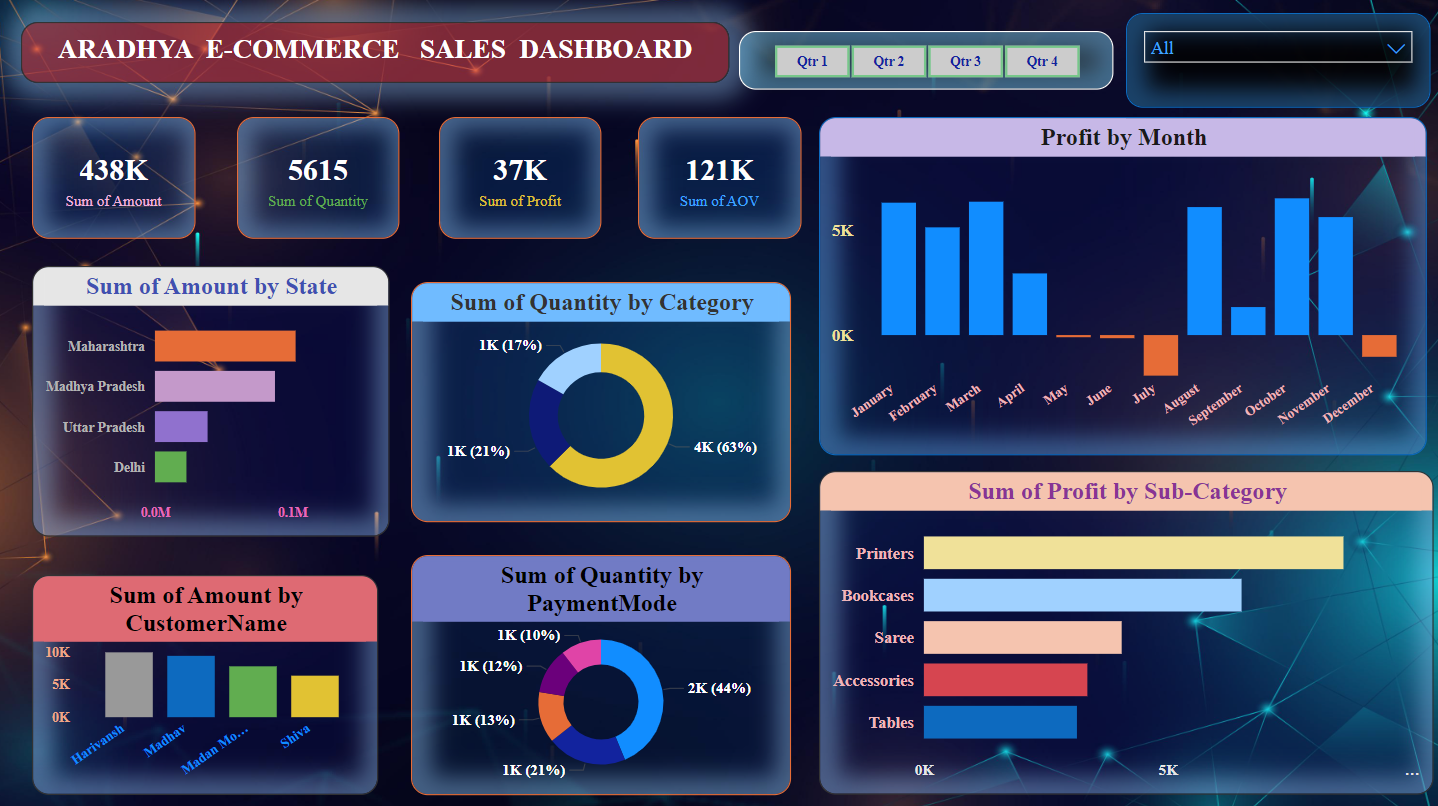

The dashboard page shown, as its layout file describes it:
{"tool":"powerbi","page":{"name":"Page 1","canvas":[1280,720],"ordinal":0},"visuals":[{"type":"textbox","box":[21.3,23.1,627.8,54.1],"z":0},{"type":"columnChart","title":"Profit by Month","fields":{"Category":["Orders.Order Date.Variation.Date Hierarchy.Month"],"Y":["Details.Profit"]},"box":[728.9,107.3,539.1,299.7],"z":1000},{"type":"barChart","fields":{"Category":["Details.Sub-Category"],"Y":["Details.Profit"]},"box":[728.9,421.2,545.3,287.3],"z":2000},{"type":"donutChart","fields":{"Category":["Details.Category"],"Y":["Details.Quantity"]},"box":[367.1,253.6,336.9,212.8],"z":3000},{"type":"donutChart","fields":{"Y":["Details.Quantity"],"Category":["Details.PaymentMode"]},"box":[367.1,495.7,336.9,212.8],"z":4000},{"type":"card","fields":{"Values":["Details.Amount"]},"box":[31,107.3,144.5,108.2],"z":5000},{"type":"card","fields":{"Values":["Details.Quantity"]},"box":[212.8,107.3,143.6,108.2],"z":6000},{"type":"card","fields":{"Values":["Details.Profit"]},"box":[391.9,107.3,143.6,108.2],"z":7000},{"type":"card","fields":{"Values":["Details.AOV"]},"box":[568.4,107.3,144.5,108.2],"z":8000},{"type":"barChart","fields":{"Category":["Orders.State"],"Y":["Details.Amount"]},"box":[31,239.4,316.6,240.3],"z":9000},{"type":"columnChart","fields":{"Category":["Orders.CustomerName"],"Y":["Details.Amount"]},"box":[31,513.4,306.8,195.1],"z":10000},{"type":"slicer","fields":{"Values":["Orders.Order Date.Variation.Date Hierarchy.Quarter"]},"box":[657.9,31,331.6,52.3],"z":11000},{"type":"slicer","fields":{"Values":["Orders.State"]},"box":[1001.1,15.1,269.6,84.2],"z":12000}]}

Visuals, with their boxes in screenshot pixels (x1, y1, x2, y2), scaled from the page's 1280x720 canvas onto the 1438x806 screenshot:
textbox: <bbox>24, 26, 729, 86</bbox>
"Profit by Month" columnChart: <bbox>819, 120, 1425, 456</bbox>
barChart - Details.Sub-Category x Details.Profit: <bbox>819, 472, 1431, 793</bbox>
donutChart - Details.Category x Details.Quantity: <bbox>412, 284, 791, 522</bbox>
donutChart - Details.Quantity x Details.PaymentMode: <bbox>412, 555, 791, 793</bbox>
card - Details.Amount: <bbox>35, 120, 197, 241</bbox>
card - Details.Quantity: <bbox>239, 120, 400, 241</bbox>
card - Details.Profit: <bbox>440, 120, 602, 241</bbox>
card - Details.AOV: <bbox>639, 120, 801, 241</bbox>
barChart - Orders.State x Details.Amount: <bbox>35, 268, 391, 537</bbox>
columnChart - Orders.CustomerName x Details.Amount: <bbox>35, 575, 379, 793</bbox>
slicer - Orders.Order Date.Variation.Date Hierarchy.Quarter: <bbox>739, 35, 1112, 93</bbox>
slicer - Orders.State: <bbox>1125, 17, 1428, 111</bbox>
